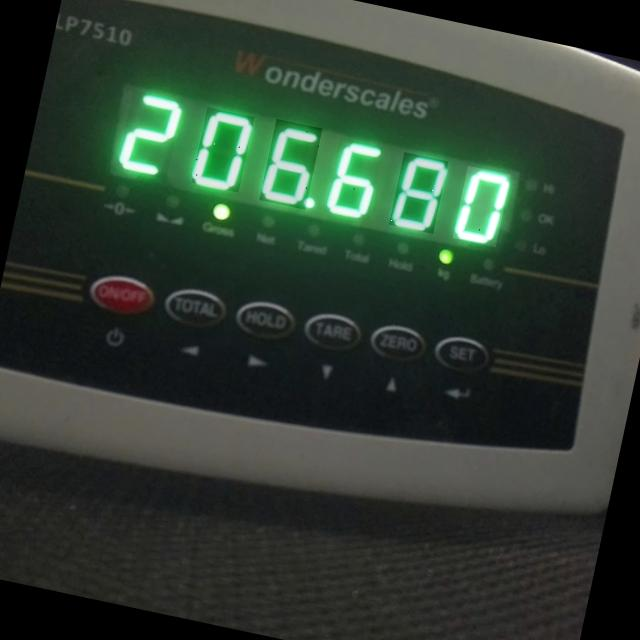.: (302, 196, 316, 208)
0: (191, 107, 254, 192), (452, 166, 510, 247)
2: (116, 90, 182, 179)
6: (259, 118, 322, 210), (324, 137, 384, 221)
8: (388, 152, 448, 234)
